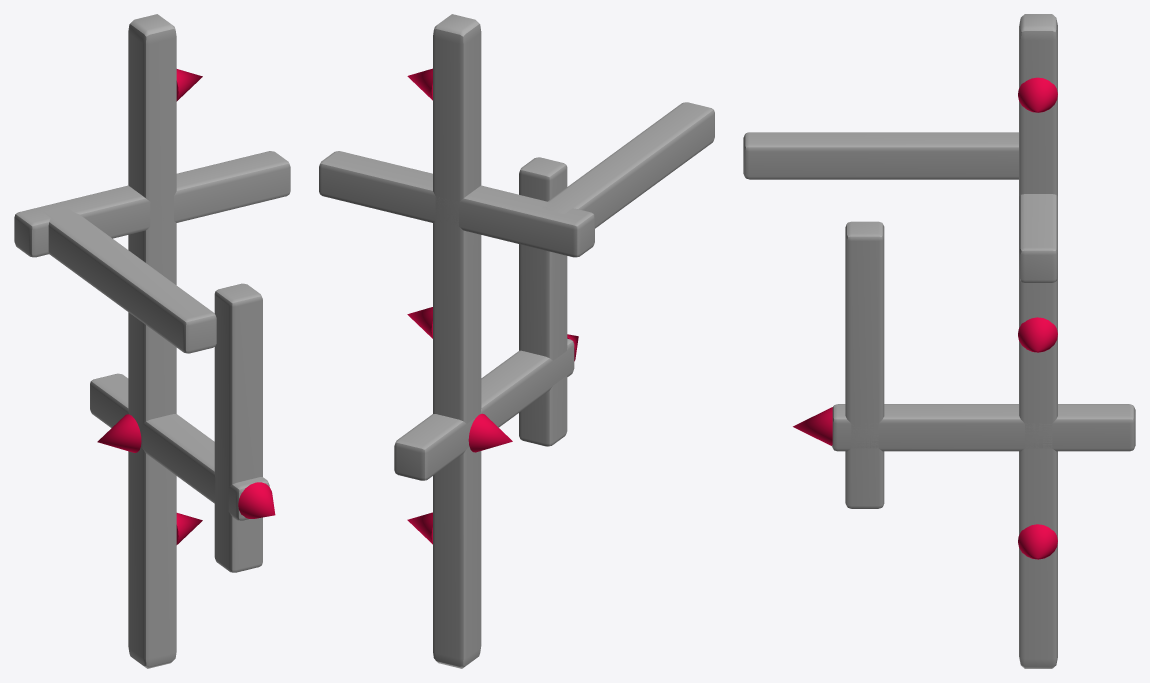
File: TestPuzzel_ver_1.fbx
3 renders of one model, left to right at view 1: azimuth 30°, elevation 25°; view 2: azimuth 150°, elevation 25°; view 3: azimuth 270°, elevation 25°, orthographic.
Parts seen in each view (by area): view 1: polySurface6; view 2: polySurface6; view 3: polySurface6.
Boxes of the visible parts, bbox=[...] form: polySurface6: bbox=[14, 14, 290, 668]; polySurface6: bbox=[319, 14, 714, 668]; polySurface6: bbox=[743, 14, 1135, 668].
Size of the model in its own units: 7.78 by 18.18 by 10.04.
